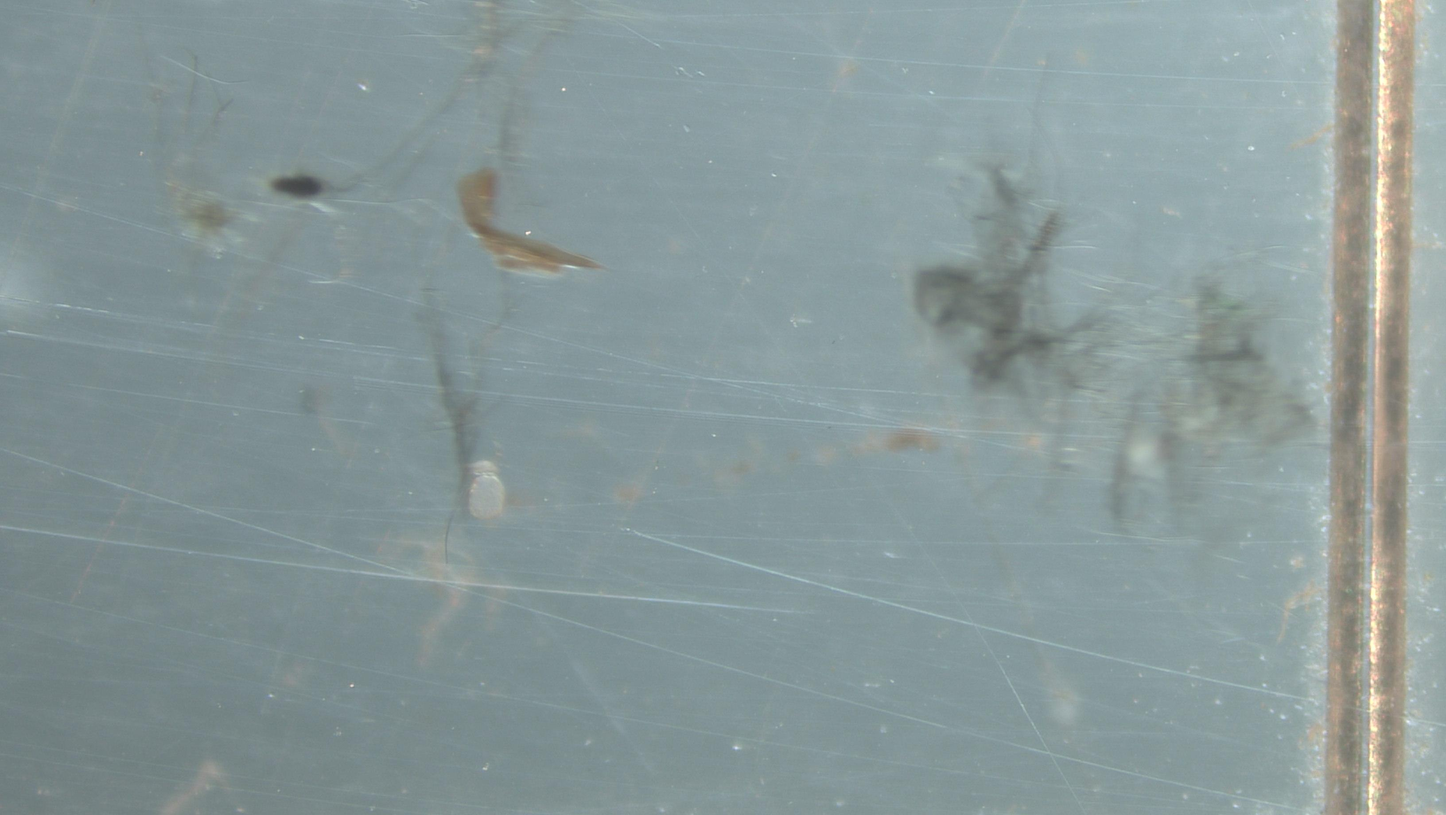dead: (468, 460, 506, 520)
